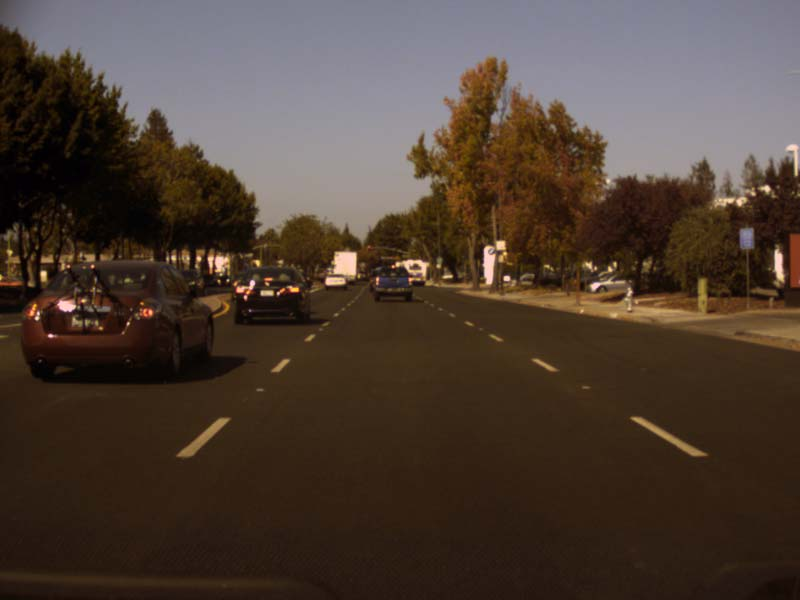Red: (366, 245, 370, 251)
